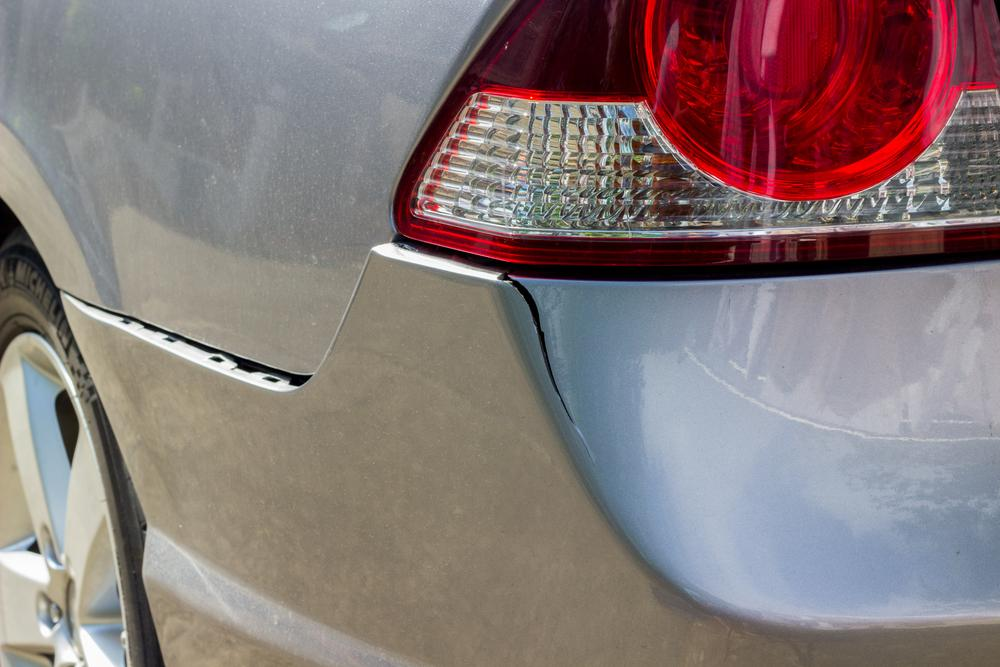crack: (497, 272, 597, 475)
